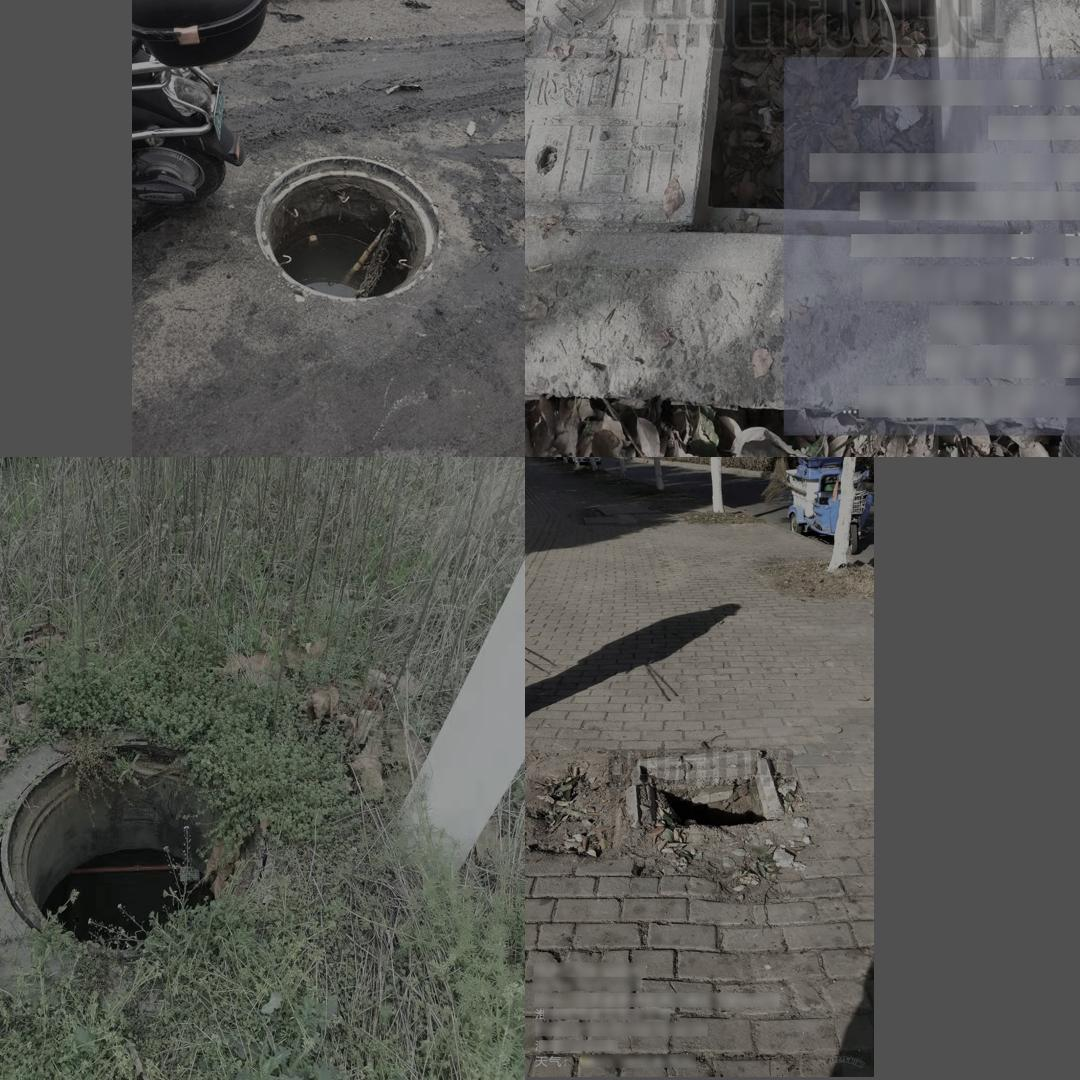lose: (527, 0, 1080, 355), (0, 740, 271, 959), (252, 150, 455, 302), (628, 750, 794, 831)
